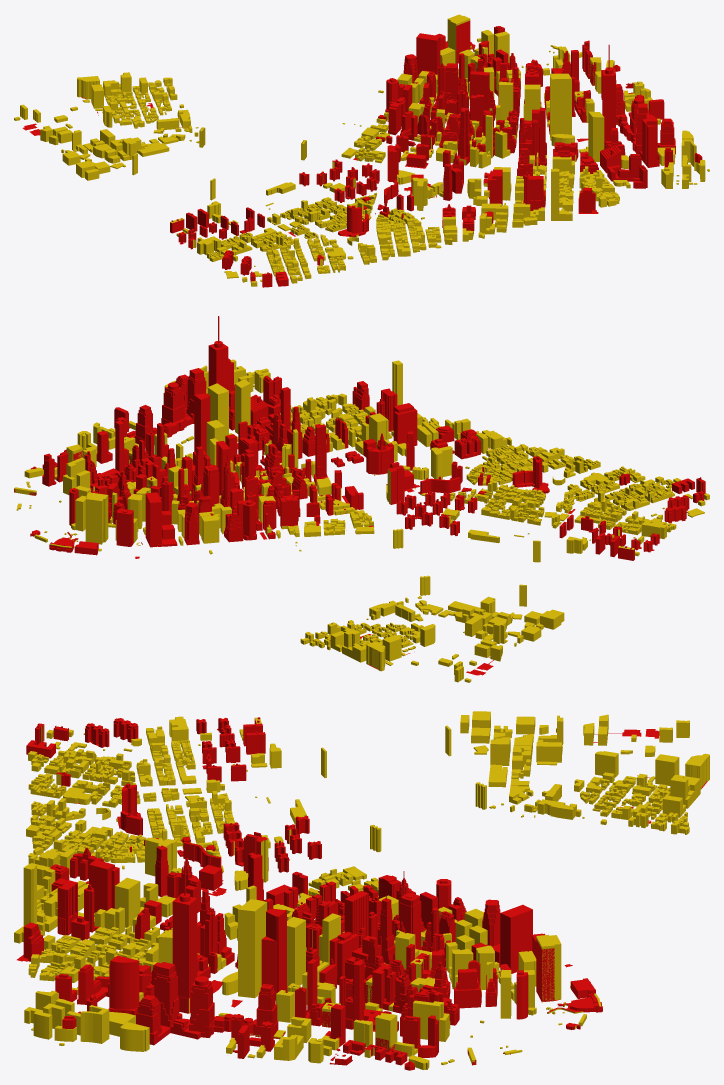
The model's file is building.fbx.
3 views of the same model, one above another, from view 1: azimuth 30°, elevation 25°; view 2: azimuth 150°, elevation 25°; view 3: azimuth 270°, elevation 25° (orthographic). The views are drawn at different scales.
Parts seen in each view (by area): view 1: 317352709; view 2: 317352709; view 3: 317352709.
Boxes of the visible parts, x1=… form: 317352709: x1=14, y1=14, x2=709, y2=287; 317352709: x1=14, y1=316, x2=709, y2=682; 317352709: x1=14, y1=711, x2=709, y2=1070.
Size of the model in its own units: 117 by 23.14 by 99.22.
